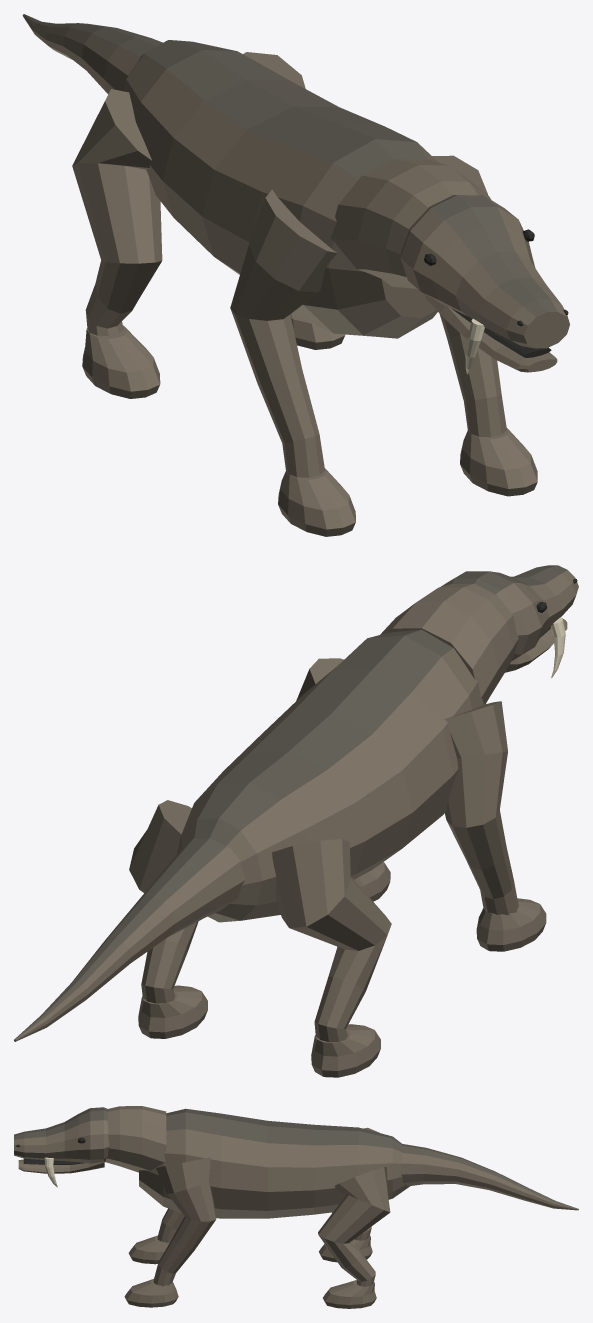
3 renders of one model, top to bottom at view 1: azimuth 30°, elevation 25°; view 2: azimuth 150°, elevation 25°; view 3: azimuth 270°, elevation 25°, orthographic. The views are drawn at different scales.
Visible parts, largest first — view 1: 01-trunk, 03-skull-soft-tissue, 06-forelimb-left, 07-hindlimb-left, 08-four-grounded-feet, 02-neck, 09-tapered-tail, 06-forelimb-right, 04-lower-jaw, 07-hindlimb-right; view 2: 01-trunk, 07-hindlimb-left, 09-tapered-tail, 06-forelimb-left, 08-four-grounded-feet, 02-neck, 07-hindlimb-right, 03-skull-soft-tissue, 04-lower-jaw, 06-forelimb-right; view 3: 01-trunk, 07-hindlimb-right, 06-forelimb-right, 09-tapered-tail, 03-skull-soft-tissue, 02-neck, 08-four-grounded-feet, 04-lower-jaw, 06-forelimb-left.
Part boxes in pixels (<box>): 01-trunk: <box>124,40,438,338</box>; 03-skull-soft-tissue: <box>400,195,569,348</box>; 06-forelimb-left: <box>230,189,337,477</box>; 07-hindlimb-left: <box>72,89,162,335</box>; 08-four-grounded-feet: <box>82,313,537,536</box>; 02-neck: <box>330,159,491,289</box>; 09-tapered-tail: <box>22,14,162,93</box>; 06-forelimb-right: <box>432,155,506,437</box>; 04-lower-jaw: <box>424,294,557,372</box>; 07-hindlimb-right: <box>243,52,305,88</box>; 01-trunk: <box>177,629,484,922</box>; 07-hindlimb-left: <box>272,839,391,1042</box>; 09-tapered-tail: <box>14,838,245,1041</box>; 06-forelimb-left: <box>444,701,518,915</box>; 08-four-grounded-feet: <box>138,862,546,1077</box>; 02-neck: <box>380,583,518,704</box>; 07-hindlimb-right: <box>129,800,198,1003</box>; 03-skull-soft-tissue: <box>441,565,578,661</box>; 04-lower-jaw: <box>505,618,567,672</box>; 06-forelimb-right: <box>296,658,343,700</box>; 01-trunk: <box>139,1108,410,1218</box>; 07-hindlimb-right: <box>318,1167,390,1286</box>; 06-forelimb-right: <box>153,1157,216,1286</box>; 09-tapered-tail: <box>400,1144,578,1210</box>; 03-skull-soft-tissue: <box>14,1107,109,1163</box>; 02-neck: <box>105,1106,166,1172</box>; 08-four-grounded-feet: <box>124,1235,376,1308</box>; 04-lower-jaw: <box>18,1159,104,1173</box>; 06-forelimb-left: <box>157,1208,184,1243</box>.
Bounding box in the file's own units: 0.9037 × 1.17 × 3.52.
